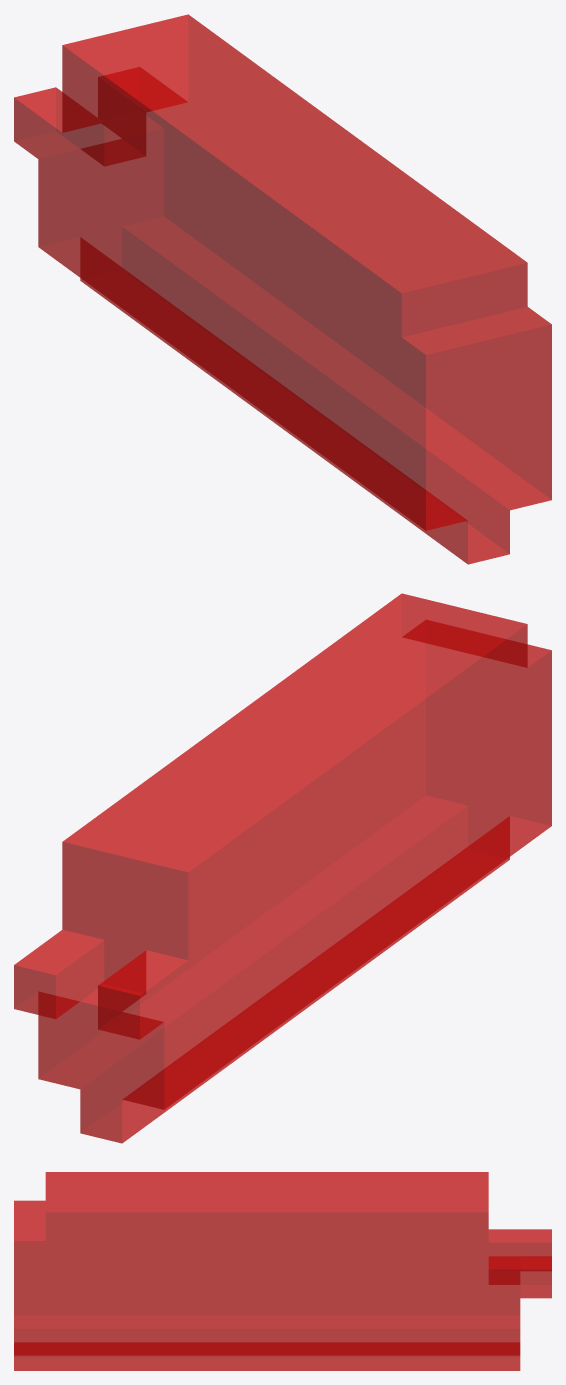
The model's file is preview_planner_tray_base_invalid.obj.
3 views of the same model, one above another, from view 1: azimuth 30°, elevation 25°; view 2: azimuth 150°, elevation 25°; view 3: azimuth 270°, elevation 25° (orthographic). The views are drawn at different scales.
Parts seen in each view (by area): view 1: invalid; view 2: invalid; view 3: invalid.
Boxes of the visible parts, <box> form: invalid: <box>14,14,551,564</box>; invalid: <box>14,593,551,1143</box>; invalid: <box>14,1172,551,1370</box>.
Bounding box in the file's own units: 0.3 × 0.6 × 1.7.
